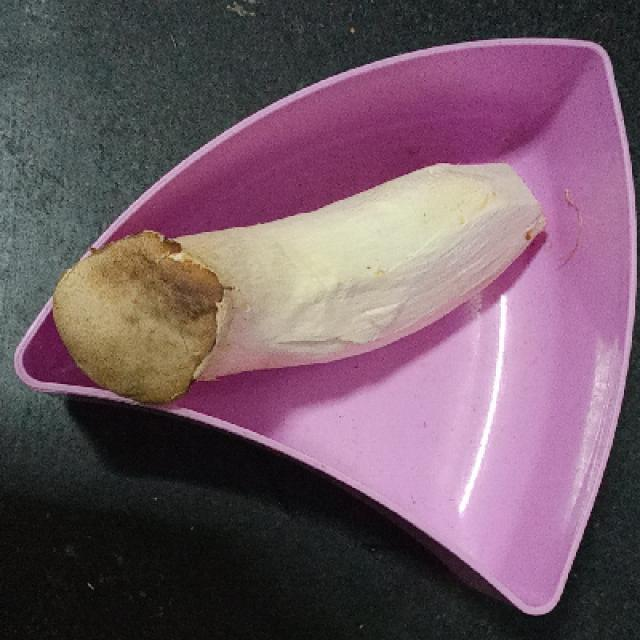Pleurotus eryngii: (56, 159, 545, 402)
